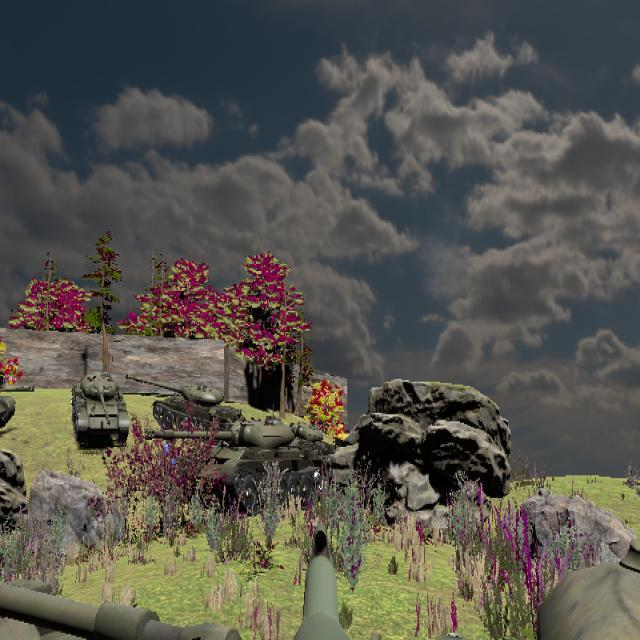Tank: (0, 563, 336, 640), (141, 415, 323, 513), (126, 374, 244, 436), (70, 372, 129, 446), (0, 381, 34, 434)
